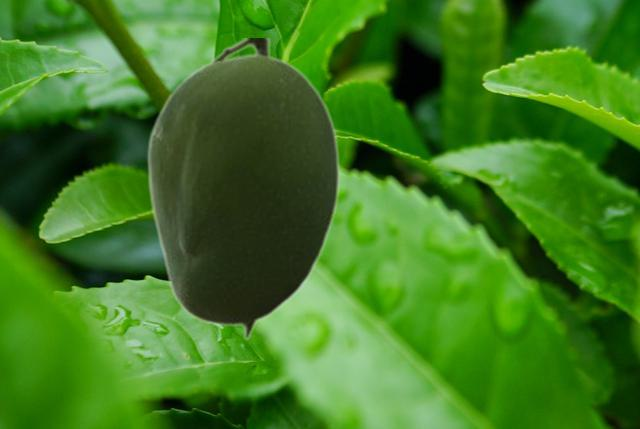green_mango: (145, 38, 339, 340)
